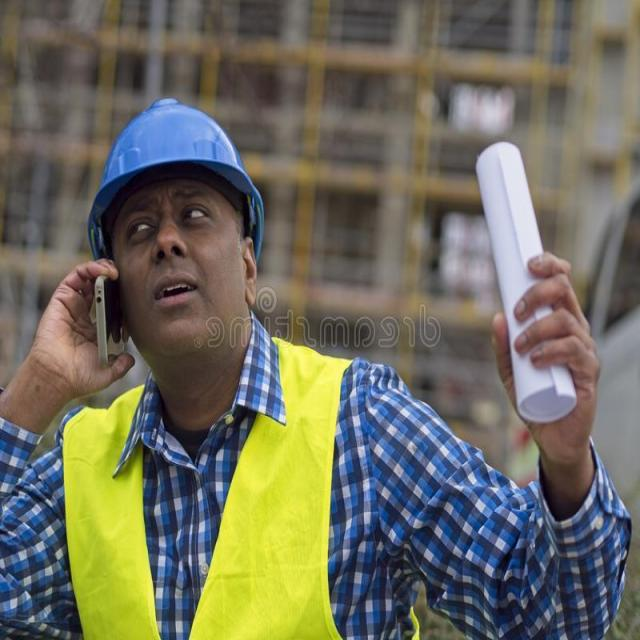Reflective-Jacket: (54, 348, 364, 637)
Safety-Helmet: (80, 91, 266, 239)
